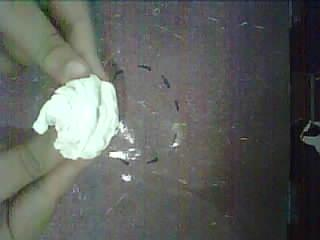paper: (33, 74, 118, 159)
